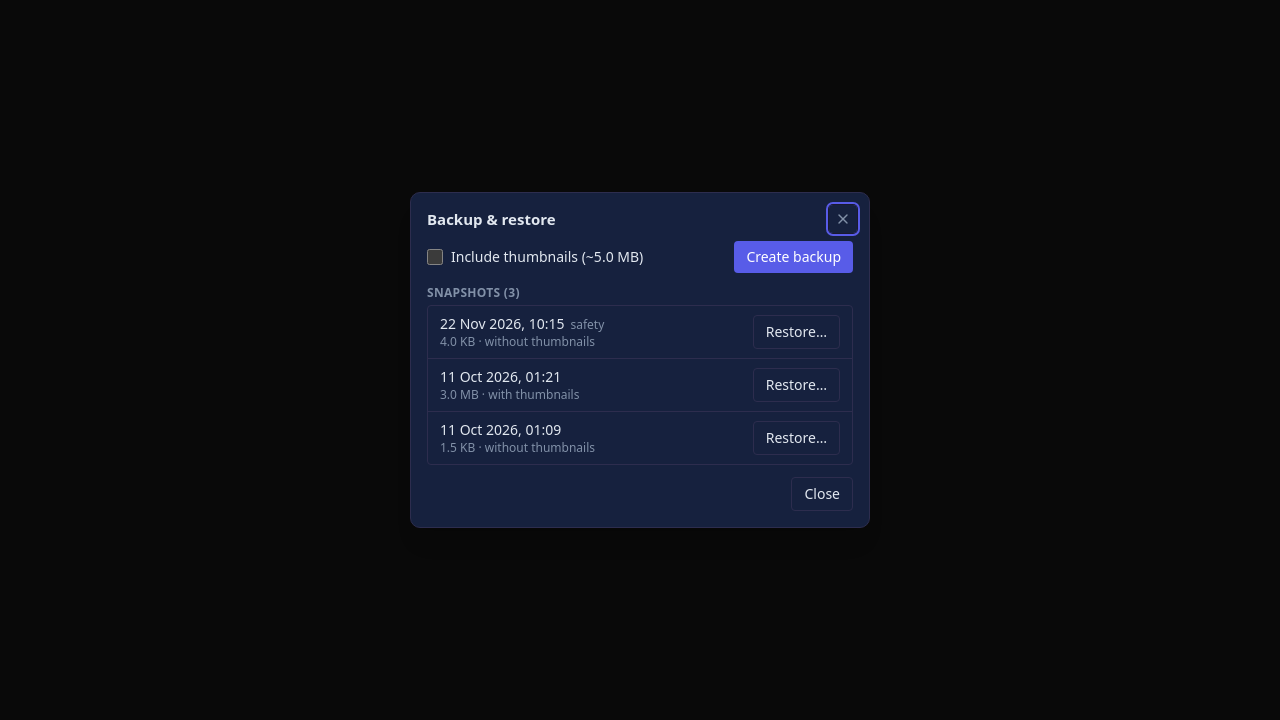
Scenario: BackupRestoreDialog › restore error {"status":500,"body":"oops"} stays in the confirmation; nothing else changes
Click the button "Restore…" in the row of "22 Nov 2026, 10:15".
click(796, 332)  # box [753, 315, 840, 349]
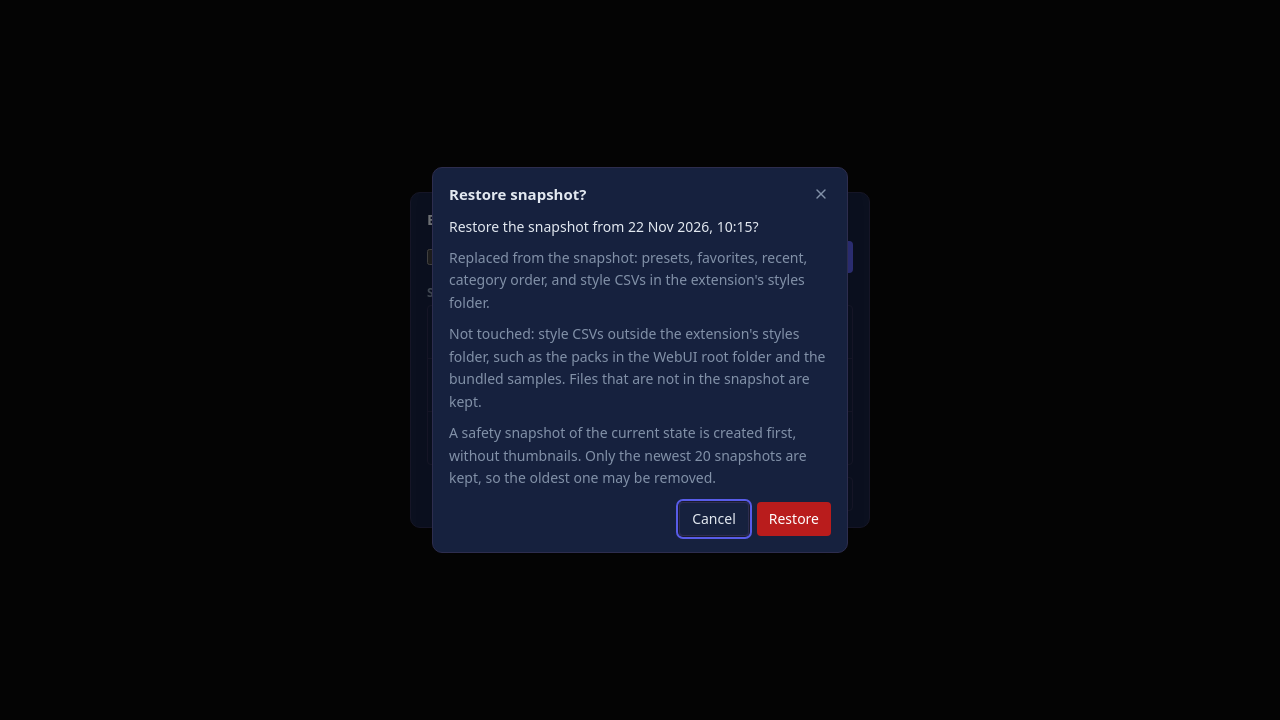
Click the button "Restore".
click(794, 519)  # box [757, 502, 831, 536]
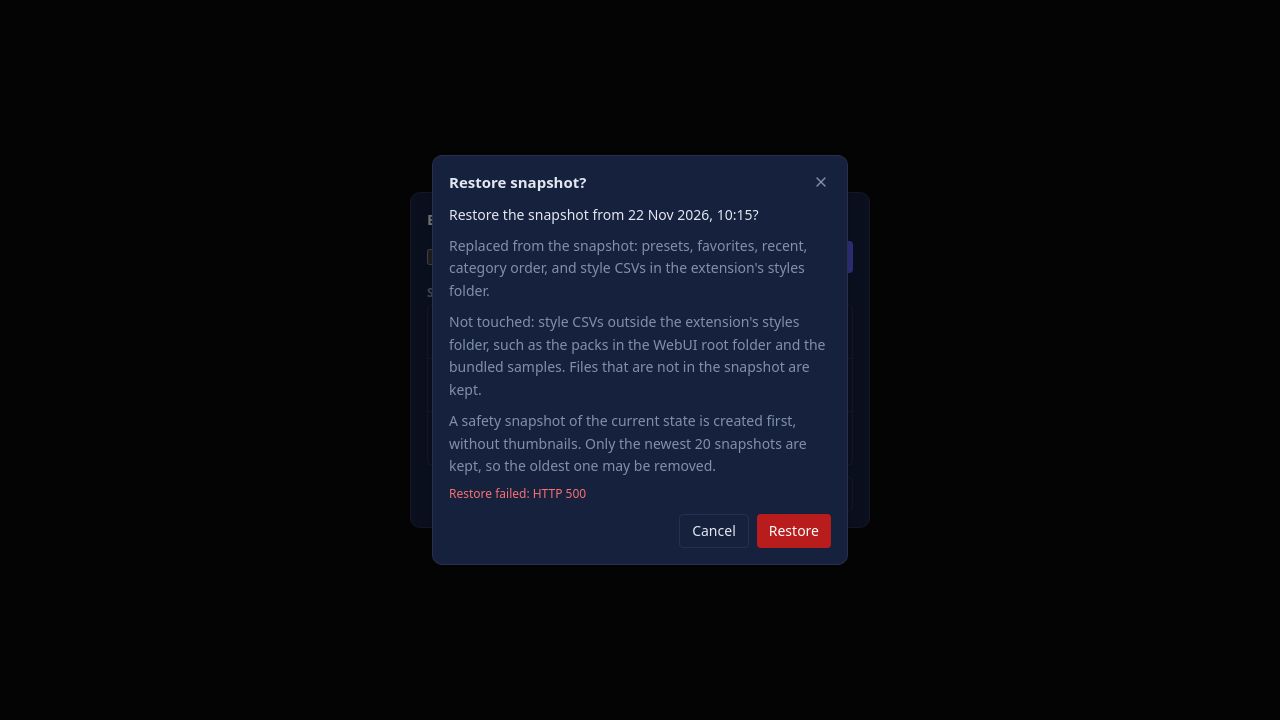
Check: the button "Restore" is enabled, box [757, 514, 831, 548]
Check: the message "Restore failed: HTTP 500" is shown, box [449, 485, 586, 502]
